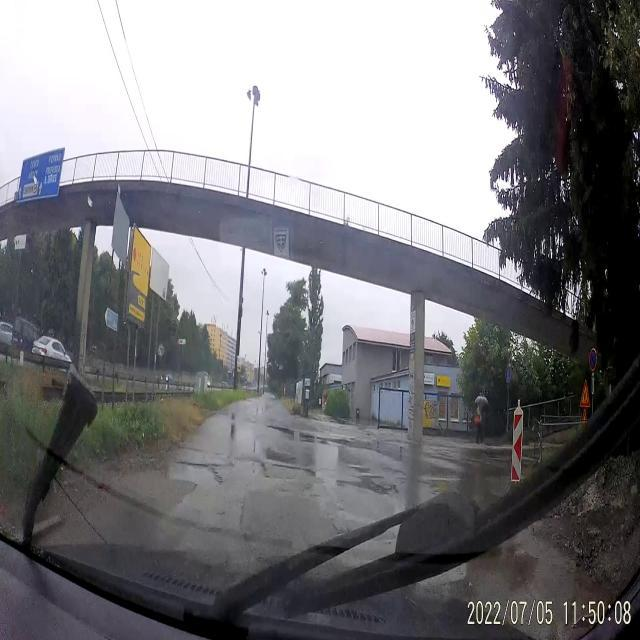Pothole: (168, 451, 225, 495), (260, 457, 318, 488), (342, 474, 401, 500)
